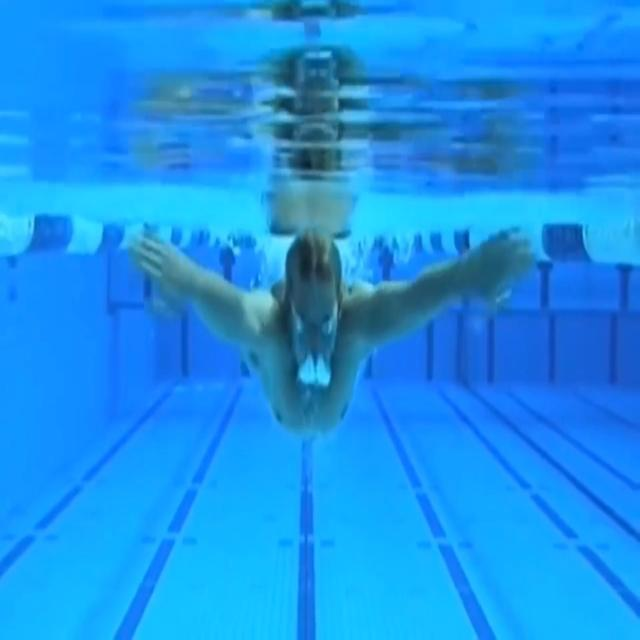Swimming: (128, 228, 536, 432)
